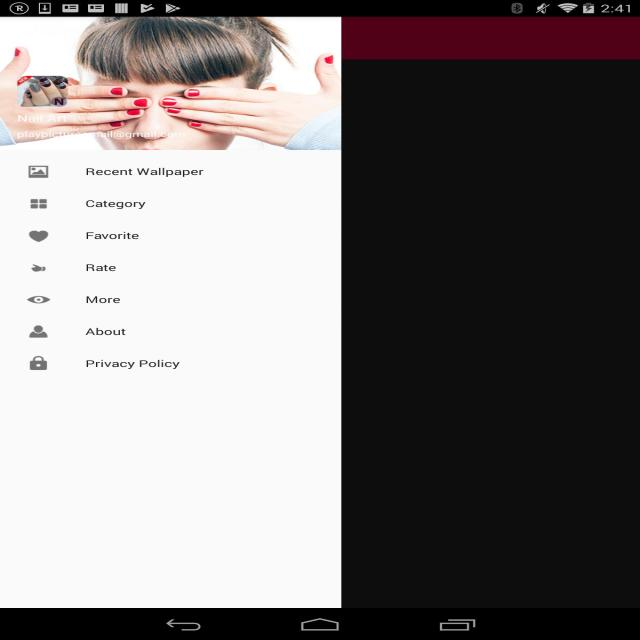button: (1, 316, 340, 346), (3, 154, 339, 184), (3, 187, 338, 217), (1, 350, 339, 378), (2, 284, 339, 312), (3, 220, 339, 248), (3, 252, 339, 280)
image: (0, 18, 339, 150), (17, 75, 68, 107), (27, 165, 49, 178), (28, 324, 48, 338), (28, 356, 48, 370), (26, 294, 50, 305), (28, 230, 49, 242), (28, 264, 48, 272), (32, 199, 46, 208)
text: (18, 130, 186, 142), (86, 167, 205, 179), (83, 358, 182, 369), (84, 199, 151, 210), (15, 112, 70, 124), (84, 230, 142, 241), (84, 326, 130, 336), (85, 295, 124, 305), (82, 263, 120, 273)
